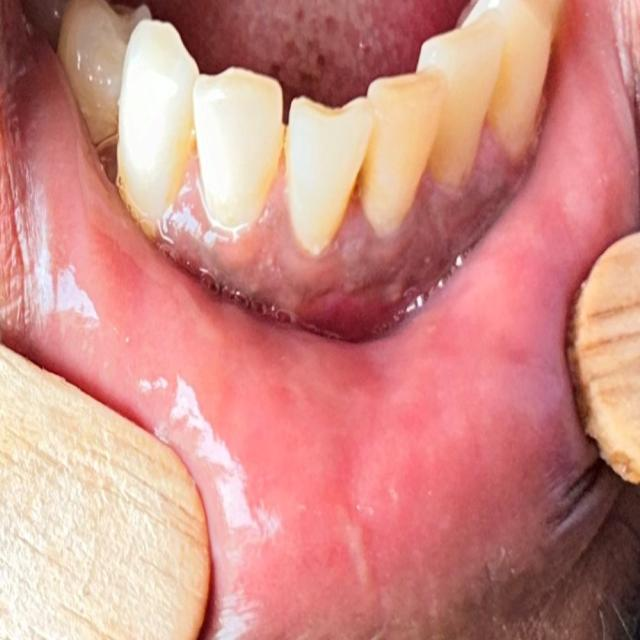processing_area: (12, 8, 638, 639)
